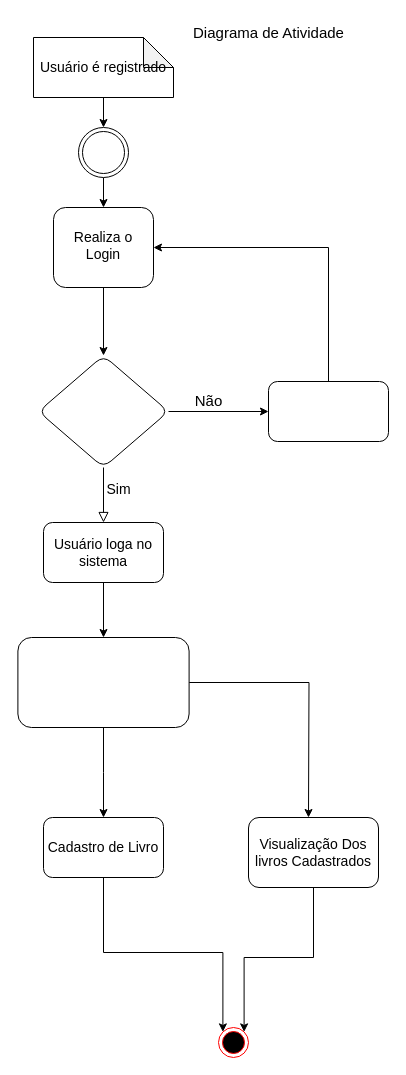
Some shapes in this 406 by 1075 pixel diagram are drawn without their labels. The shapes that lost their labels are listed below. From the top down, each one's box as (x1, y1, x2, y2) in pixels, then its label:
(38, 354, 168, 468): Login e senha correto?
(268, 380, 388, 442): Login ou senha incorreto
(17, 636, 189, 728): Usuário tem acesso a todas as ferramentas de um usuáro comum
